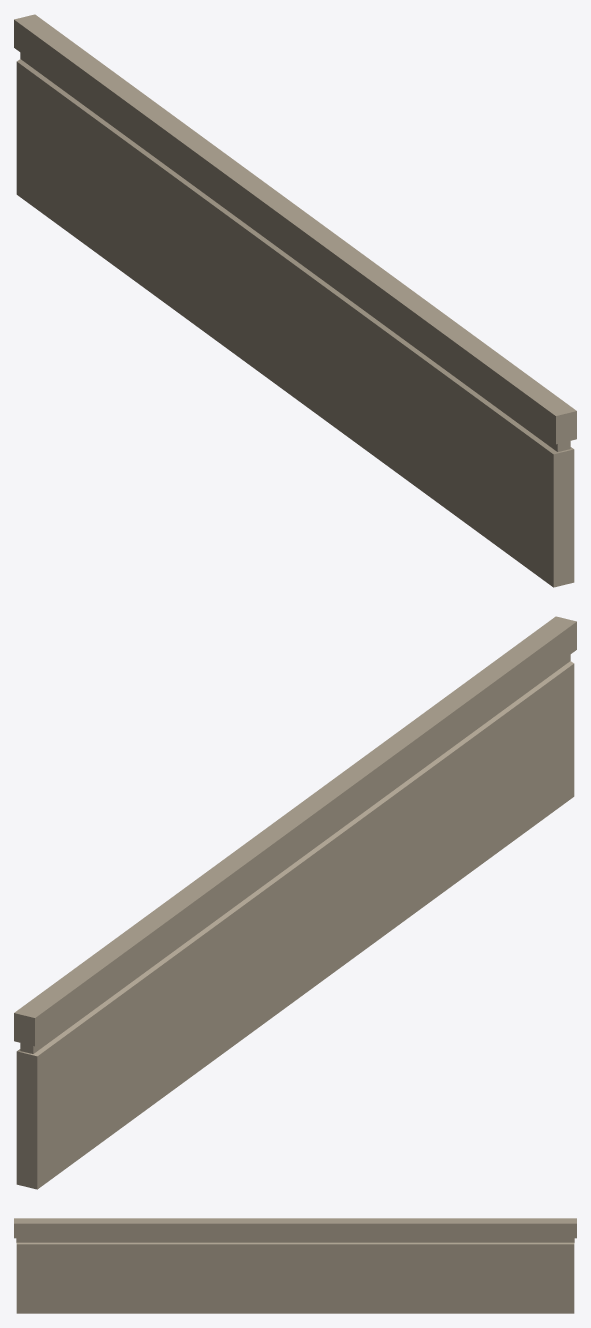
File: Zocalo.fbx
The picture shows the model from 3 angles, top to bottom: view 1: azimuth 30°, elevation 25°; view 2: azimuth 150°, elevation 25°; view 3: azimuth 270°, elevation 25°; orthographic projection. The views are drawn at different scales.
Visible parts, largest first — view 1: Zocalo; view 2: Zocalo; view 3: Zocalo.
Part boxes in pixels (bbox=[...]): Zocalo: bbox=[14, 14, 576, 587]; Zocalo: bbox=[14, 616, 576, 1189]; Zocalo: bbox=[14, 1218, 576, 1313].
Size of the model in its own units: 0.2882 by 2.26 by 12.82.
